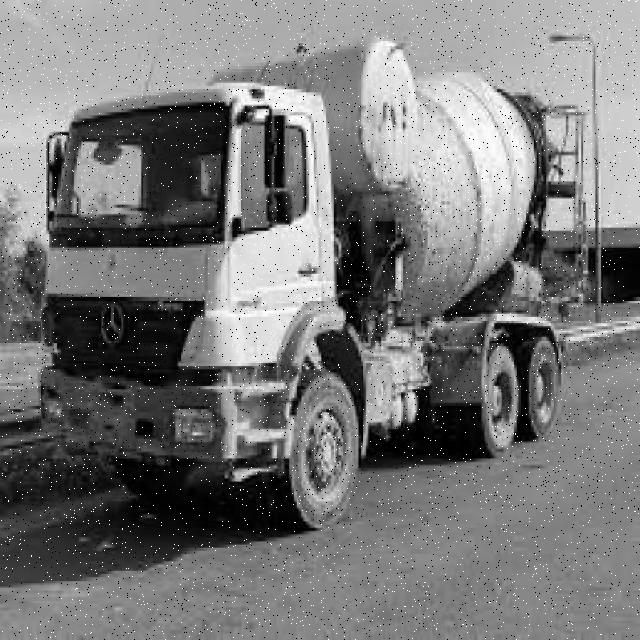Concrete Mixer: (37, 38, 595, 531)
